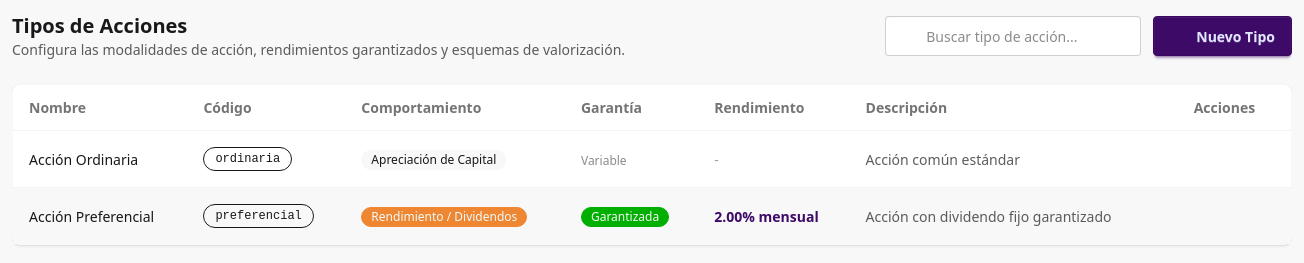
Scenario: StockTypeManagement.vue › filters stock types based on search input
The width and height of the screenshot is (1304, 263).
Type "preferencial" into the field with placeholder "Buscar tipo de acción..." at coordinates (1013, 36), box left=885, top=16, right=1141, bottom=56
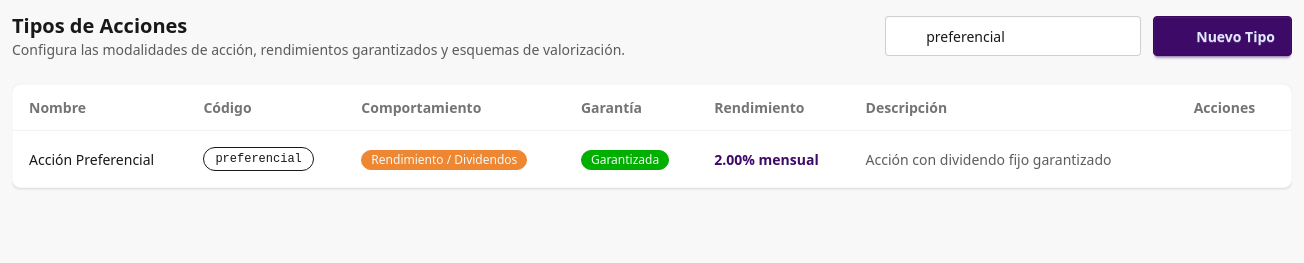
Expected: the text "Acción Preferencial" is shown, left=13, top=131, right=187, bottom=187
Result: the text "Acción Ordinaria" is gone
